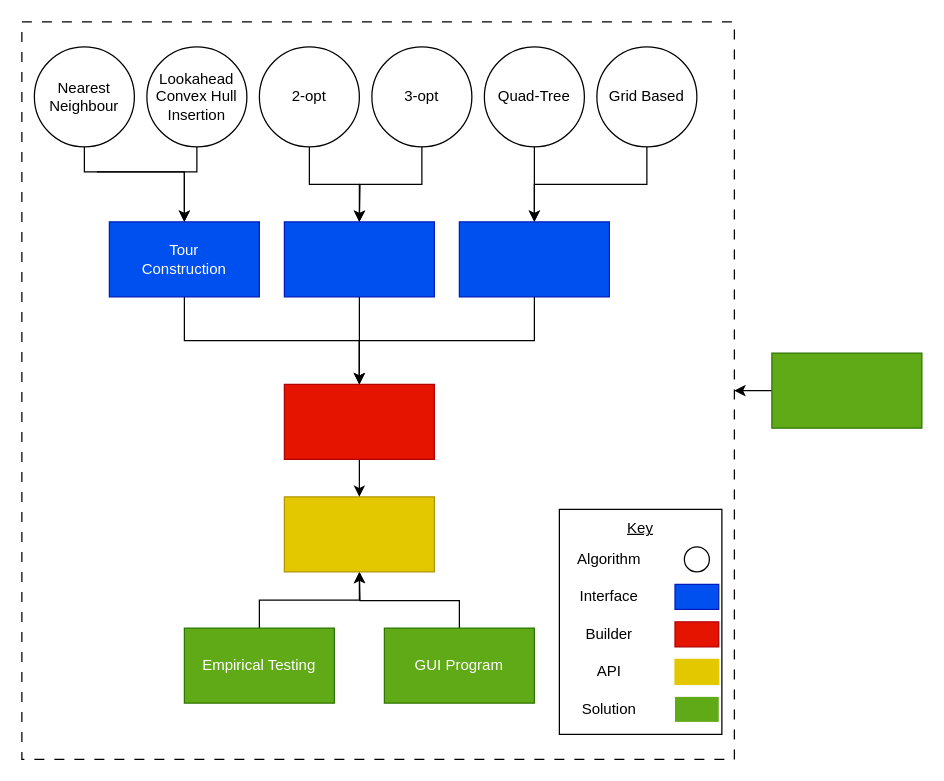
Image size: 944x781. Some labels were removed from this diagram. The centre of each missing label's shape, as x and y in pixels:
"Partitioning" belongs at (533,259).
"Tour Optimisation" belongs at (358,259).
"TSP Data" belongs at (358,421).
"TSP Library" belongs at (358,534).
"Unit Test" belongs at (846,390).
